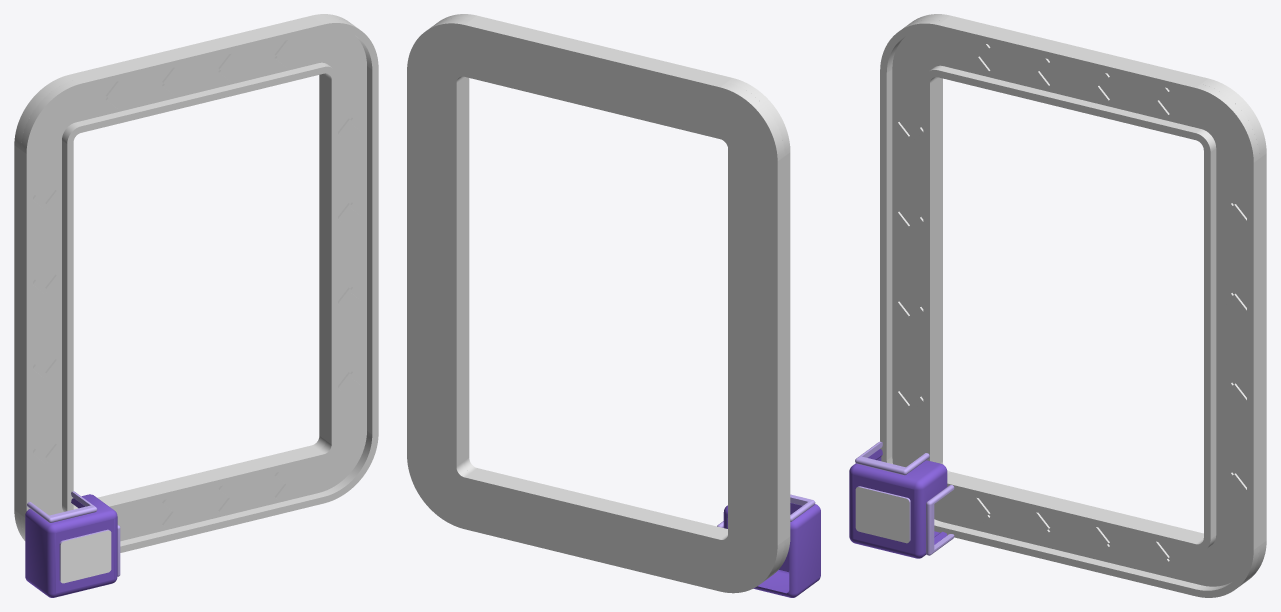
3 renders of one model, left to right at view 1: azimuth 30°, elevation 25°; view 2: azimuth 150°, elevation 25°; view 3: azimuth 330°, elevation 25°, orthographic. The views are drawn at different scales.
Visible parts, largest first — view 1: Belt_Left, Belt_Right, Belt_Top, Belt_Bottom, Machine_Housing_With_Visible_Panel, RailInner_Right, RailOuter_Right, RailInner_Left, RailOuter_Left, RailOuter_Top, RailInner_Top, RailInner_Bottom (+8 smaller); view 2: Belt_Left, Belt_Right, Belt_Top, Belt_Bottom, Belt_Corner_TL, Machine_Housing_With_Visible_Panel, Belt_Corner_BL, Belt_Corner_TR, Belt_Corner_BR, RailInner_Right, RailOuter_Left, RailInner_Bottom (+2 smaller); view 3: Belt_Left, Belt_Right, Belt_Top, Belt_Bottom, Machine_Housing_With_Visible_Panel, RailOuter_Right, RailInner_Right, RailOuter_Left, RailInner_Left, RailOuter_Top, RailInner_Top, RailOuter_Bottom (+9 smaller).
Part boxes in pixels (x1,y1,x2,y2): Belt_Left: (14,140,61,514); Belt_Right: (319,66,366,439); Belt_Top: (69,15,318,122); Belt_Bottom: (73,445,318,541); Machine_Housing_With_Visible_Panel: (25,494,117,597); RailInner_Right: (326,76,337,444); RailOuter_Right: (367,66,378,434); RailInner_Left: (62,140,73,508); RailOuter_Left: (21,150,32,517); RailOuter_Top: (76,20,323,90); RailInner_Top: (76,63,323,132); RailInner_Bottom: (104,450,323,511); Belt_Left: (728,149,784,545); Belt_Right: (407,71,463,466); Belt_Top: (464,19,726,138); Belt_Bottom: (464,472,726,591); Belt_Corner_TL: (720,82,784,161); Machine_Housing_With_Visible_Panel: (723,503,820,597); Belt_Corner_BL: (720,533,784,593); Belt_Corner_TR: (407,18,470,82); Belt_Corner_BR: (407,455,470,528); RailInner_Right: (463,77,469,461); RailOuter_Left: (785,152,790,539); RailInner_Bottom: (472,468,727,534); Belt_Left: (892,69,942,463); Belt_Right: (1216,148,1266,544); Belt_Top: (943,15,1208,128); Belt_Bottom: (943,472,1203,584); Machine_Housing_With_Visible_Panel: (849,449,947,558); RailOuter_Right: (1247,158,1259,549); RailInner_Right: (1204,148,1216,539); RailOuter_Left: (880,69,892,460); RailInner_Left: (923,79,935,462); RailOuter_Top: (938,21,1200,94); RailInner_Top: (938,66,1200,139); RailOuter_Bottom: (938,522,1200,596).
Bounding box in the file's own units: 1012 × 1312 × 201.
